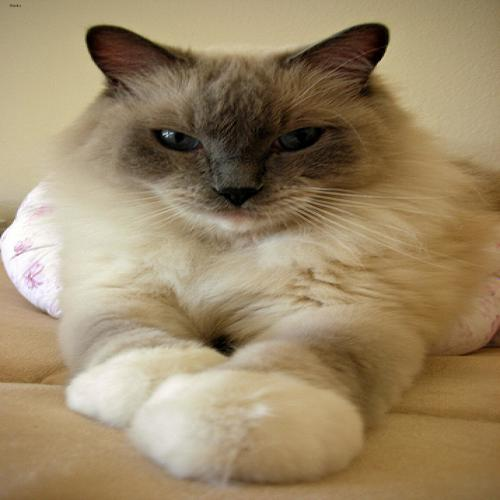ragdoll: (80, 16, 402, 241)
